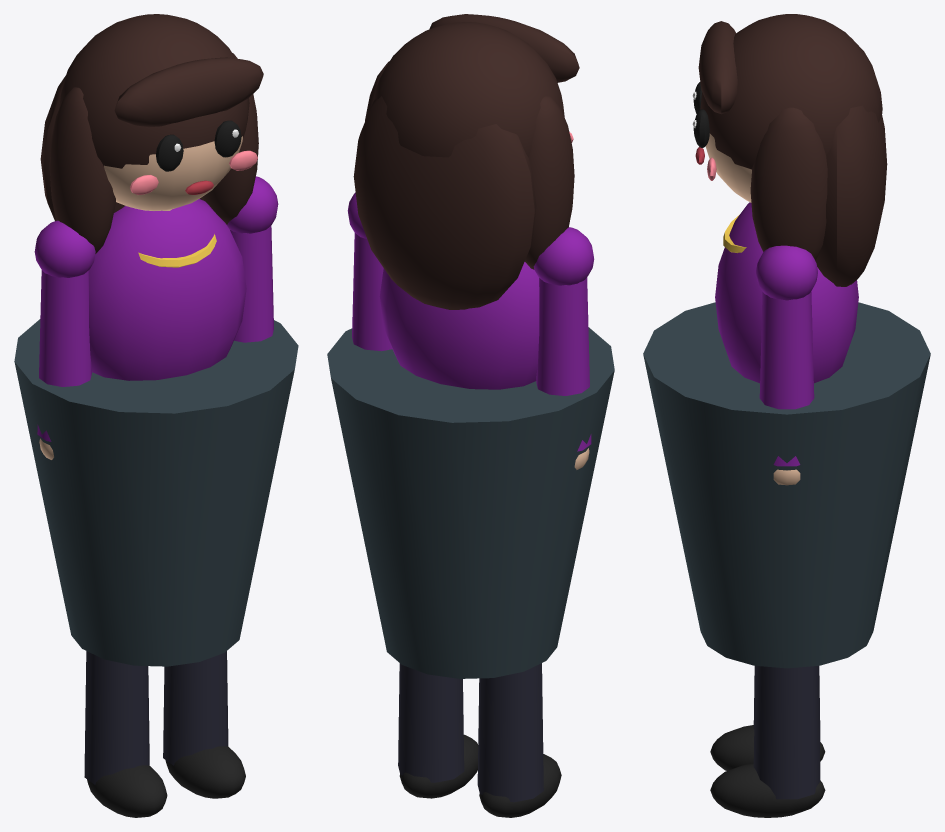
File: ima_person.glb
3 renders of one model, left to right at view 1: azimuth 30°, elevation 25°; view 2: azimuth 150°, elevation 25°; view 3: azimuth 270°, elevation 25°, orthographic.
Parts seen in each view (by area): view 1: Body.007, Leg_R.007, Leg_L.007, Arm_R.007, Arm_L.007; view 2: Body.007, Leg_R.007, Leg_L.007, Arm_R.007, Arm_L.007; view 3: Body.007, Leg_L.007, Arm_L.007, Leg_R.007.
Part boxes in pixels (left/top/right/bottom): Body.007: left=14, top=14, right=298, bottom=666; Leg_R.007: left=84, top=651, right=167, bottom=817; Leg_L.007: left=163, top=651, right=245, bottom=798; Arm_R.007: left=34, top=220, right=95, bottom=459; Arm_L.007: left=227, top=176, right=278, bottom=342; Body.007: left=327, top=14, right=614, bottom=678; Leg_R.007: left=477, top=663, right=561, bottom=817; Leg_L.007: left=398, top=663, right=478, bottom=798; Arm_R.007: left=533, top=227, right=594, bottom=469; Arm_L.007: left=347, top=192, right=392, bottom=351; Body.007: left=643, top=14, right=930, bottom=668; Leg_L.007: left=710, top=666, right=825, bottom=817; Arm_L.007: left=756, top=245, right=817, bottom=485; Leg_R.007: left=710, top=666, right=825, bottom=770.
Size of the model in its own units: 0.6 by 1.78 by 0.6.
